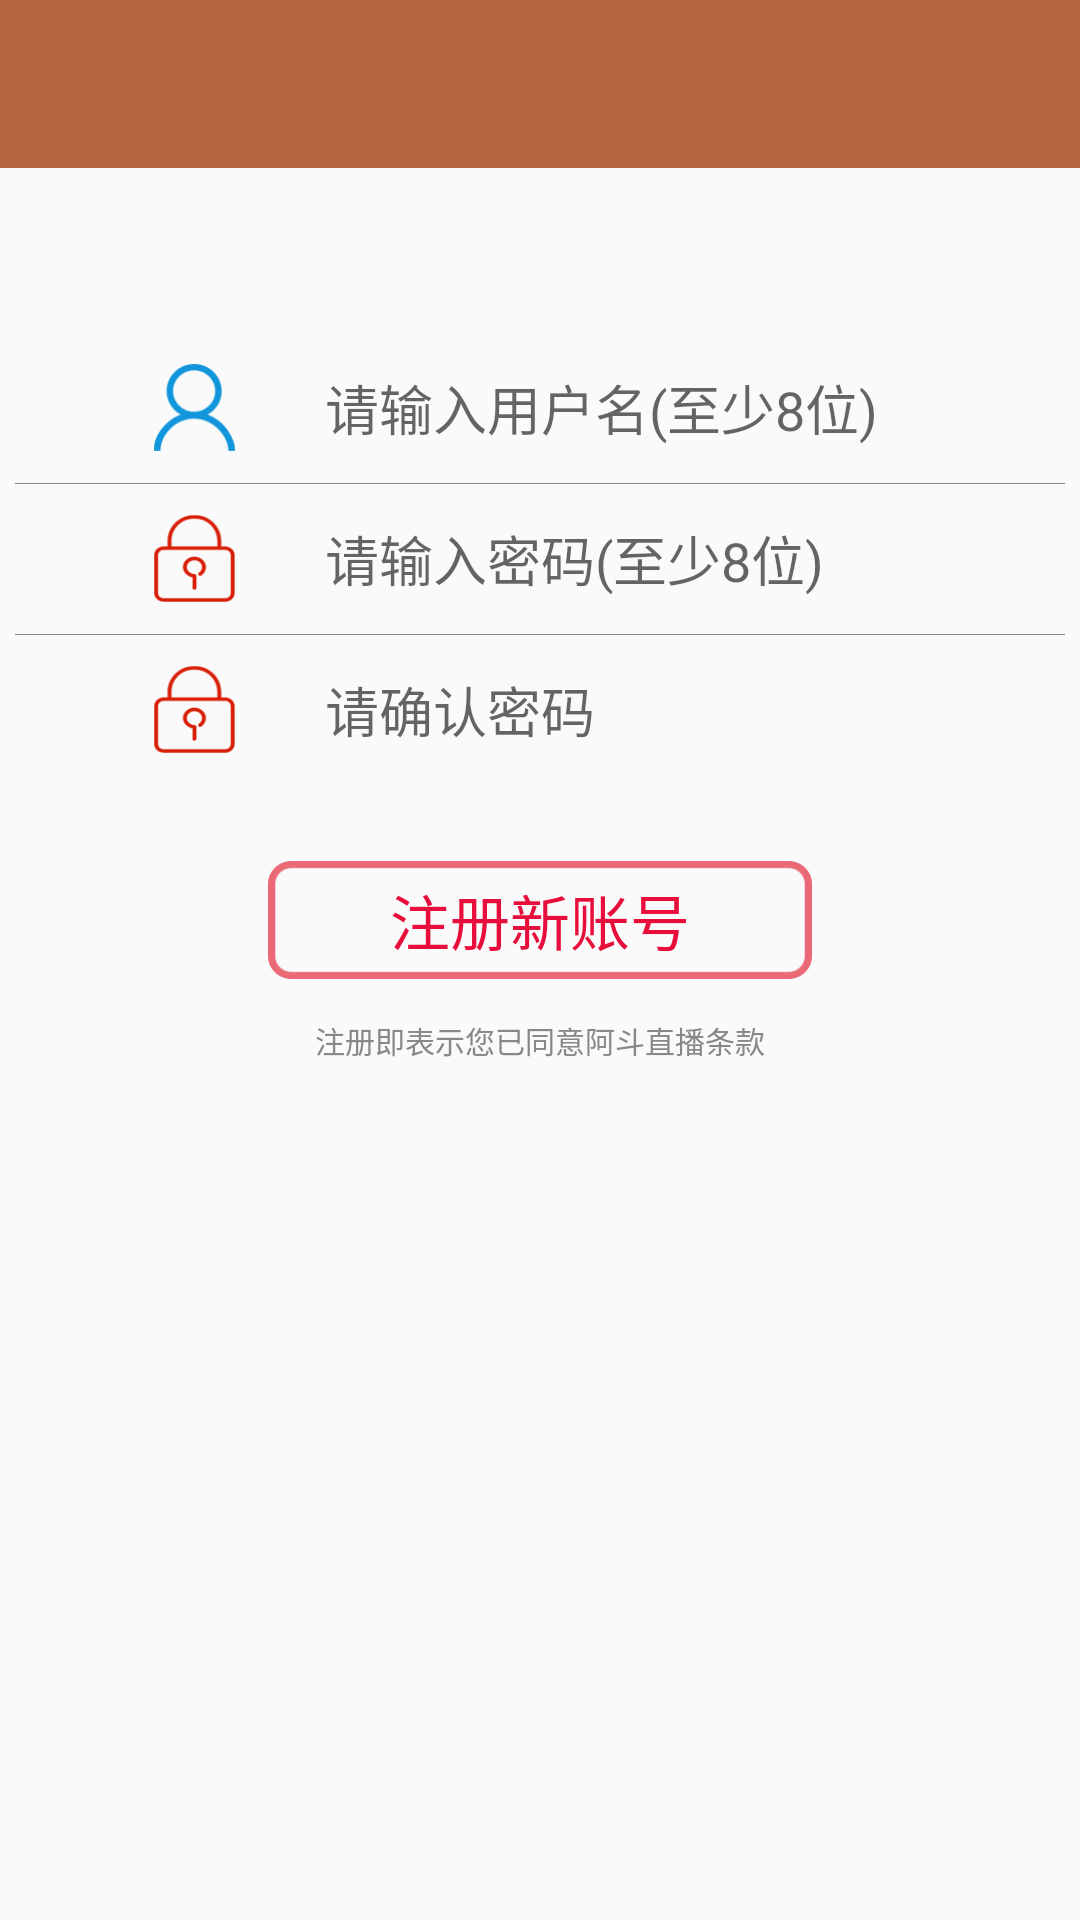

Icons on this 1080px x 1920px Android screen, each with its box as (x1=x1, y1=y1, x2=x2, y2=y2):
account: (x1=154, y1=364, x2=235, y2=451)
pass: (x1=154, y1=515, x2=235, y2=602), (x1=154, y1=666, x2=235, y2=753)
